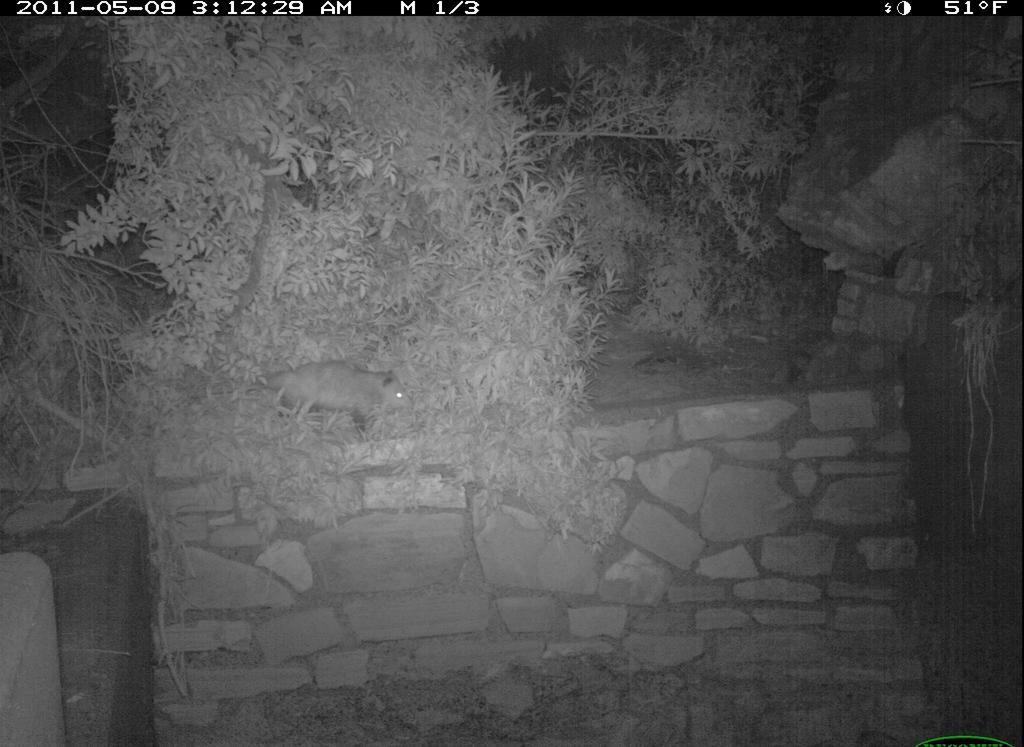opossum: (201, 346, 417, 463)
